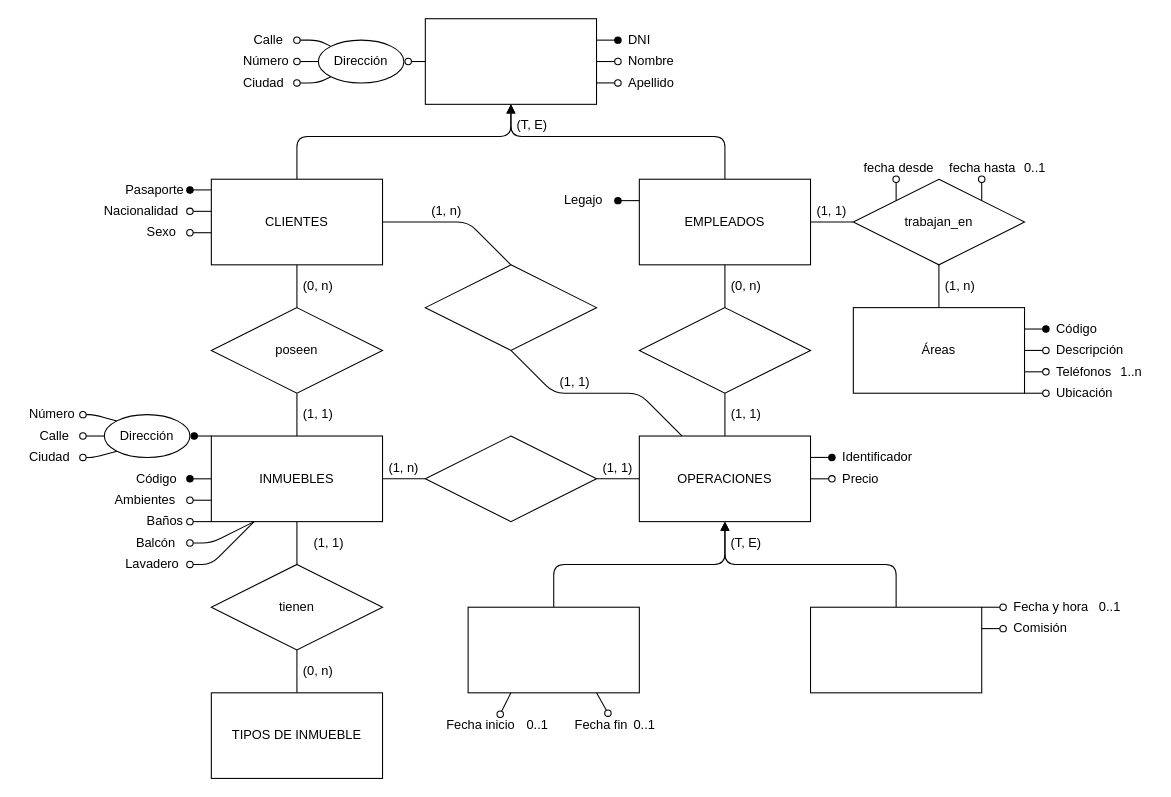
The diagram is 1171 pixels wide and 797 high, and some of its shapes have lost their labels. Here are the shapes that lost their labels. From the top down, the centre of each, then its label:
At point (510, 61): "PERSONAS".
At point (510, 307): "solicitan".
At point (724, 350): "realizan".
At point (510, 478): "corresponden".
At point (553, 649): "ALQUILERES".
At point (895, 649): "VENTAS".
